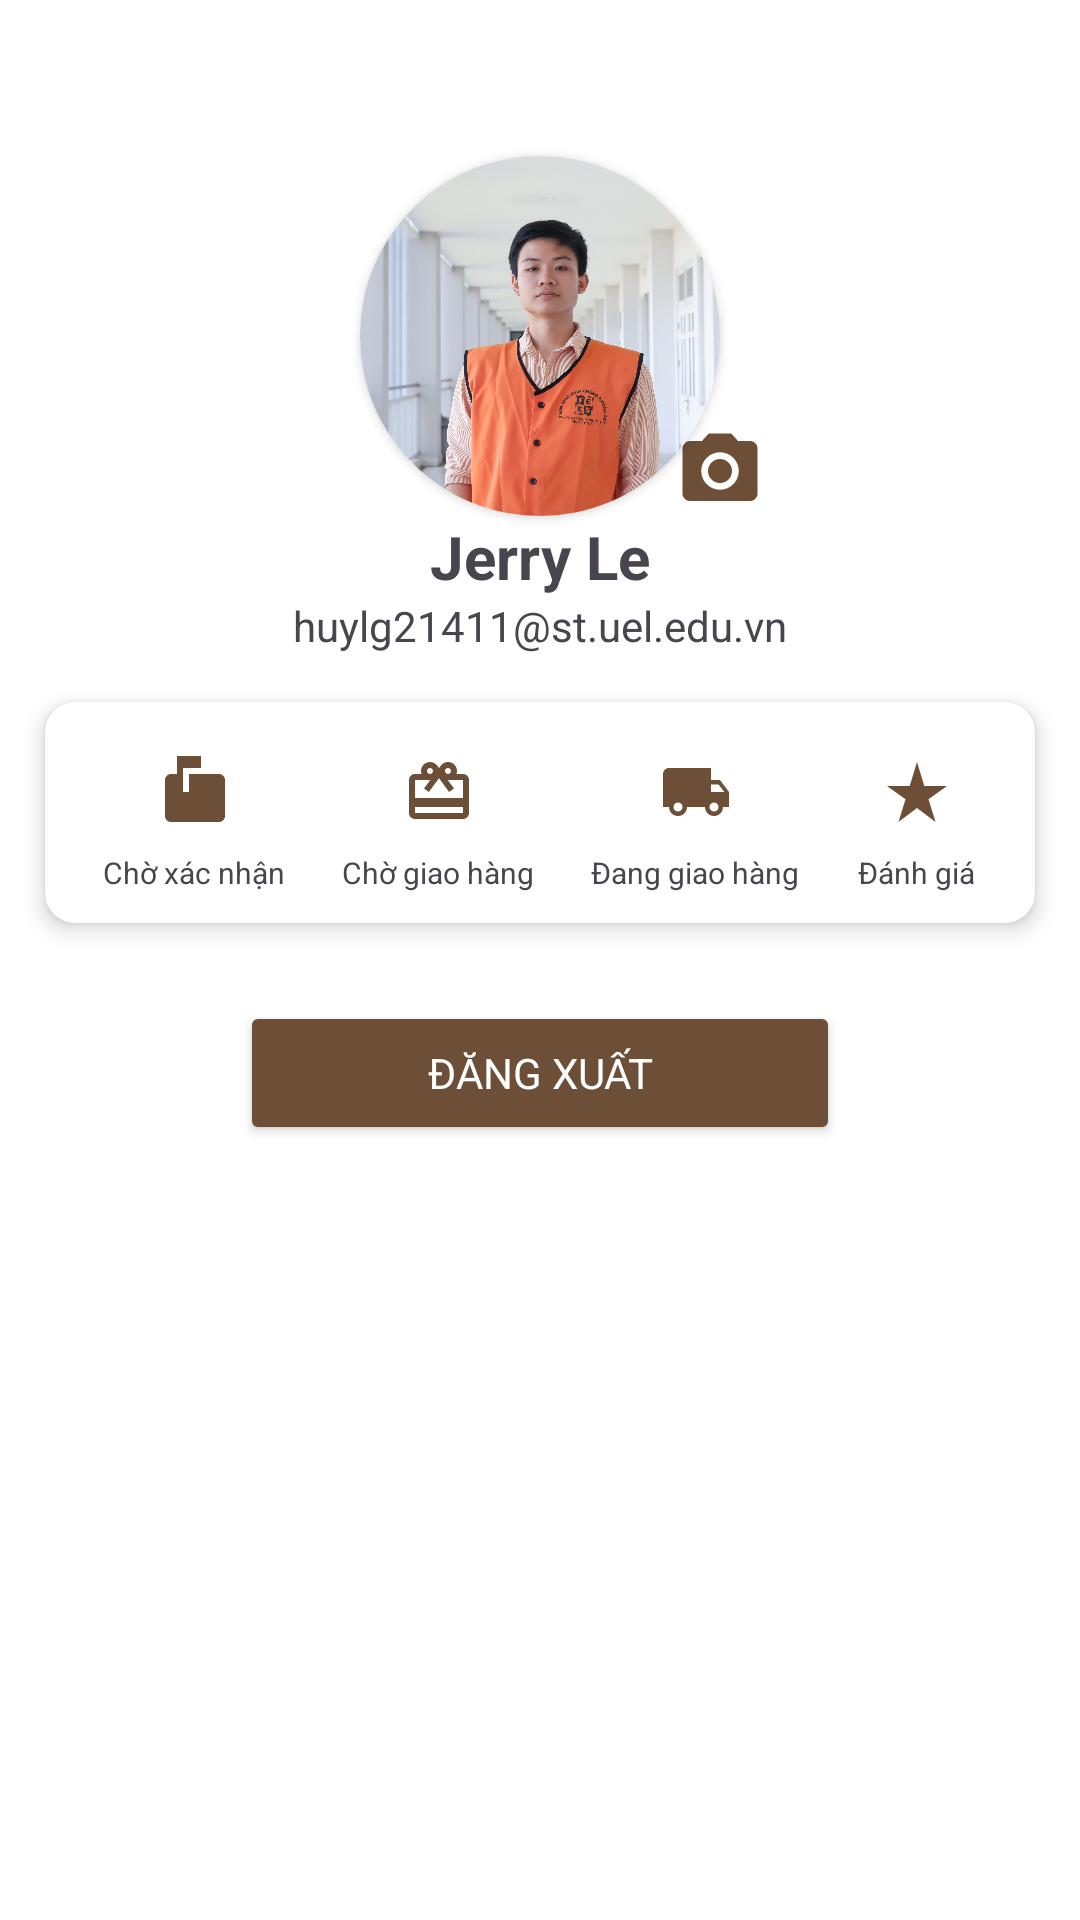

Locate icon controls on the screen. Image size 1080px x 1920px, boxes as (left=x1, top=y1, right=x2, bottom=y2).
ava: (left=360, top=156, right=720, bottom=516)
box: (left=409, top=762, right=469, bottom=819)
camera: (left=675, top=426, right=758, bottom=501)
markunread mailbox: (left=165, top=756, right=225, bottom=822)
